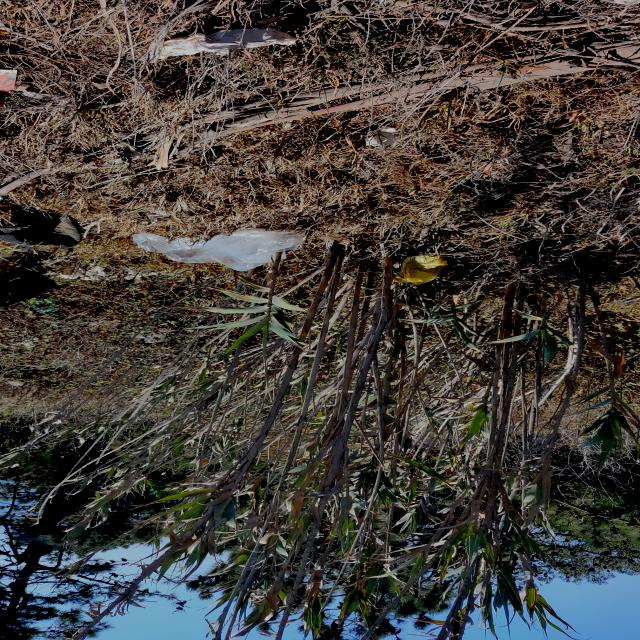Plastic film: (133, 229, 304, 272), (16, 84, 59, 99), (138, 331, 168, 343)
Single-use carrier bag: (395, 256, 447, 285)
Unlabeled litter: (157, 28, 296, 58), (0, 211, 82, 249), (40, 264, 155, 281), (366, 128, 396, 145), (27, 299, 59, 312), (141, 212, 172, 224), (1, 69, 16, 93)
